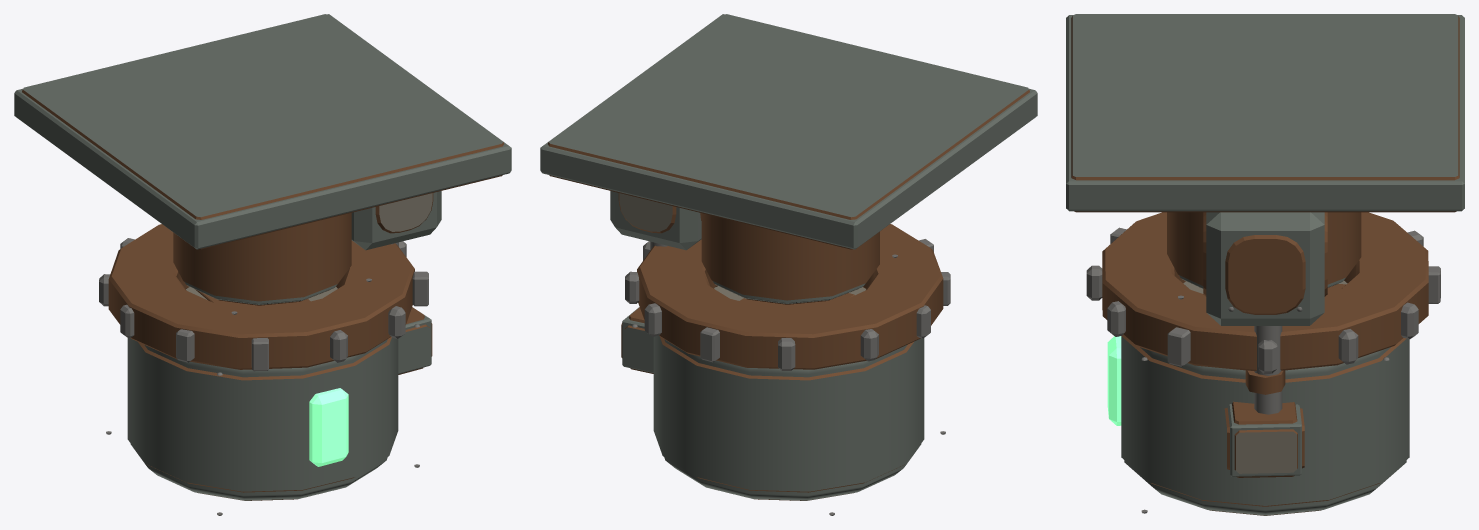
File: R4X_IndependentSteering.fbx
3 renders of one model, left to right at view 1: azimuth 30°, elevation 25°; view 2: azimuth 150°, elevation 25°; view 3: azimuth 270°, elevation 25°, orthographic. The views are drawn at different scales.
Parts seen in each view (by area): view 1: R4X_IndependentSteering_Body, R4X_IndependentSteering_Turntable; view 2: R4X_IndependentSteering_Body, R4X_IndependentSteering_Turntable; view 3: R4X_IndependentSteering_Body, R4X_IndependentSteering_Turntable.
Boxes of the visible parts, x1=… form: R4X_IndependentSteering_Body: x1=14, y1=14, x2=511, y2=371; R4X_IndependentSteering_Turntable: x1=106, y1=287, x2=432, y2=515; R4X_IndependentSteering_Body: x1=540, y1=14, x2=1037, y2=370; R4X_IndependentSteering_Turntable: x1=621, y1=286, x2=945, y2=515; R4X_IndependentSteering_Body: x1=1066, y1=14, x2=1464, y2=414; R4X_IndependentSteering_Turntable: x1=1107, y1=281, x2=1409, y2=515.
Size of the model in its own units: 0.5162 by 0.52 by 0.5125.
